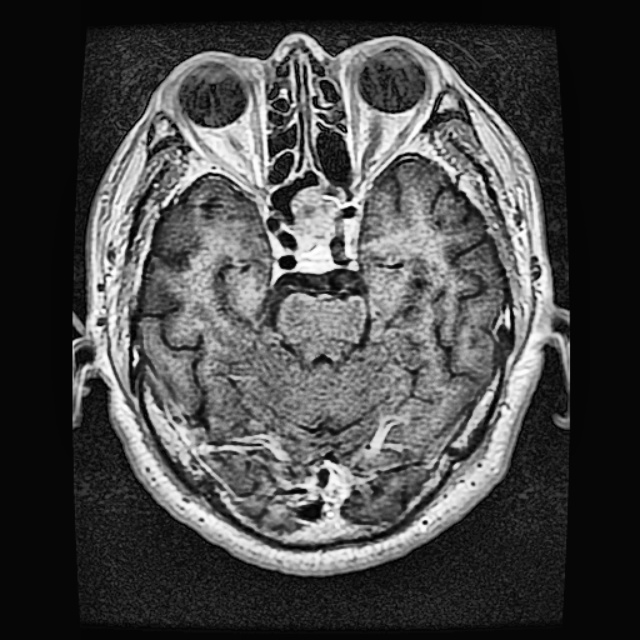Pituitary: (294, 189, 340, 247)
